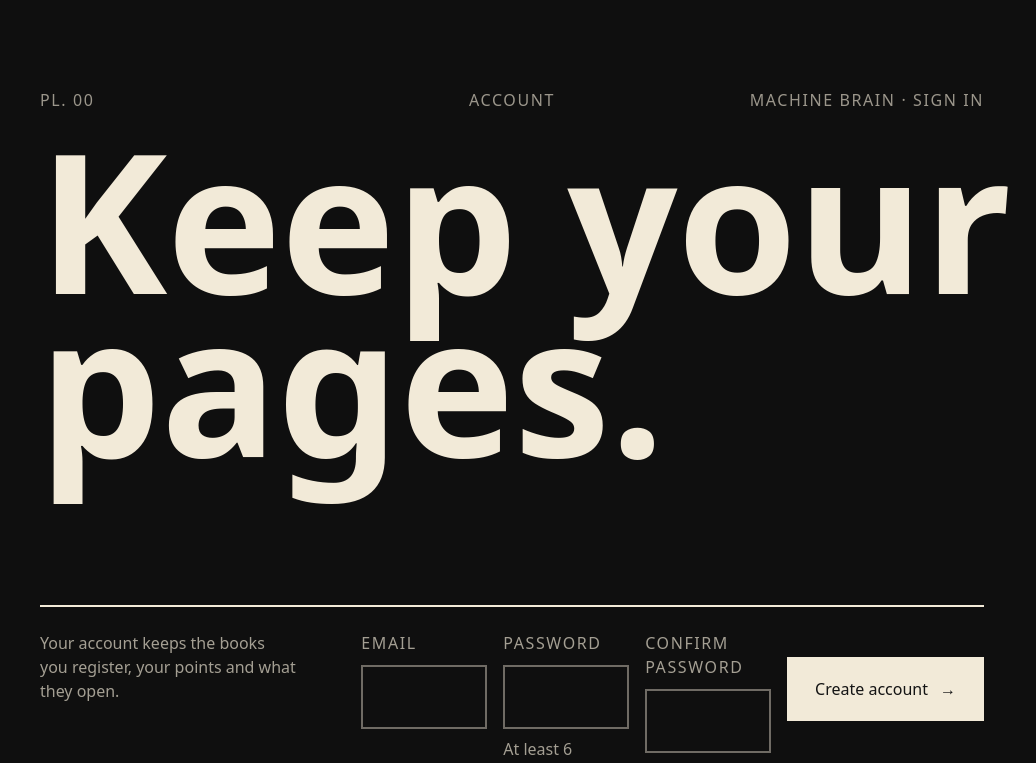
Scenario: /auth errors and loading › moves an existing account to sign in with a summary
This screenshot has width=1036, height=763.
Type "you@example.com" into the field labelled "Email" at (424, 697), box [361, 665, 487, 729]
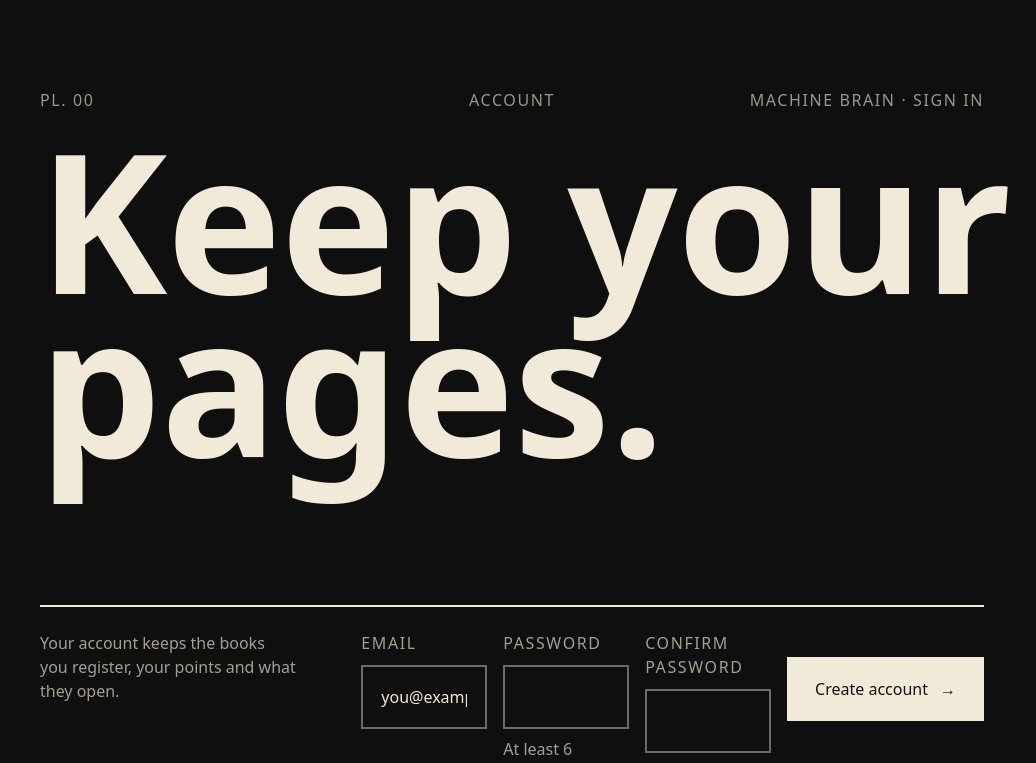
Type "secret1" into the password field labelled "Password" at (566, 697), box [503, 665, 629, 729]
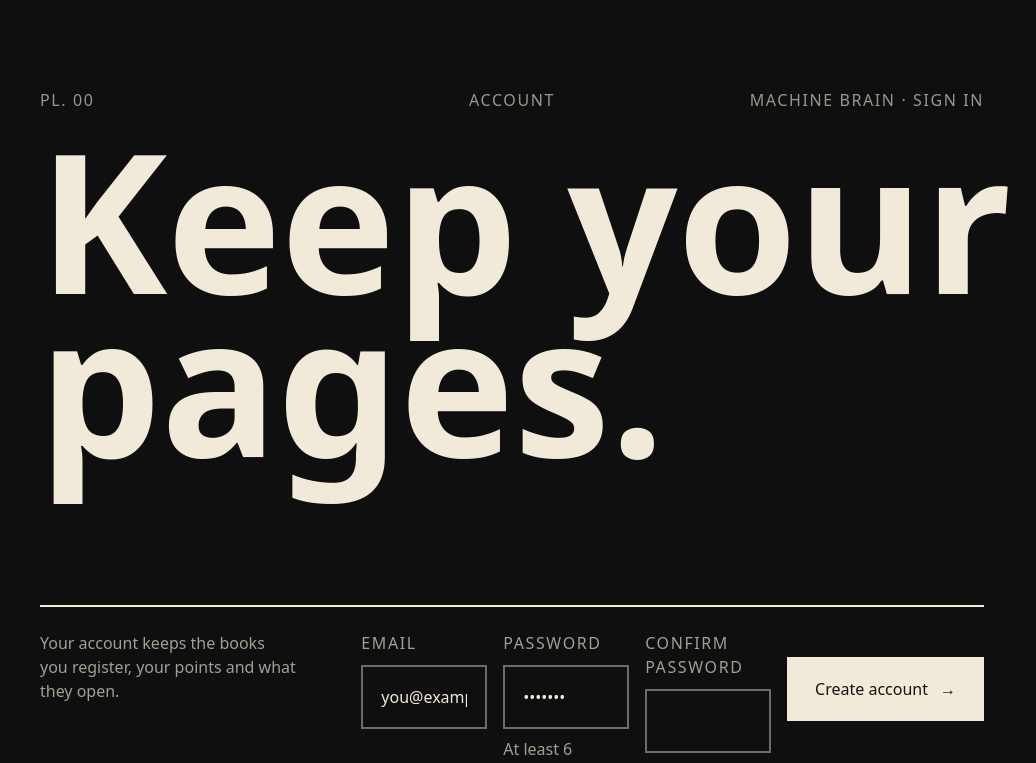
Type "secret1" into the password field labelled "Confirm password" at (708, 721), box [645, 689, 771, 753]
(page scrolled)
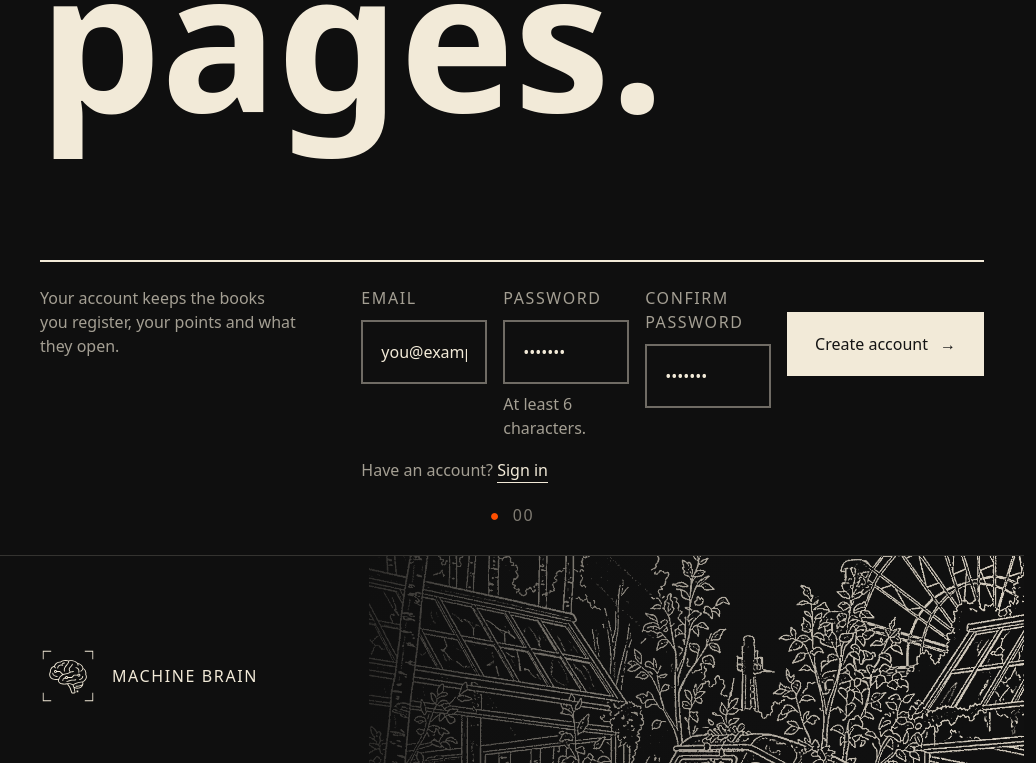
Submit the form "account", box [361, 286, 984, 483]
(page scrolled)
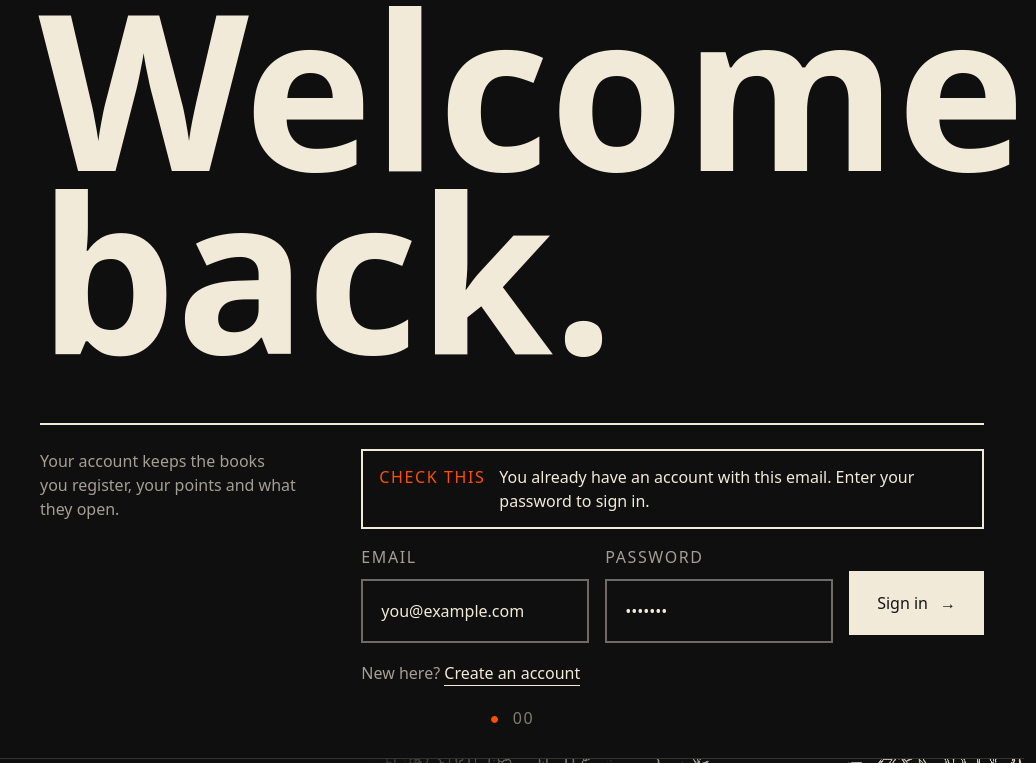
Now the element with test id "auth-summary" shows "You already have an account", box [499, 466, 914, 512]
Now the heading reads "Welcome back.", box [38, 0, 984, 357]
